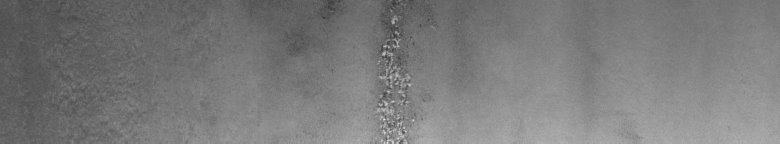hc: (293, 4, 439, 136)
